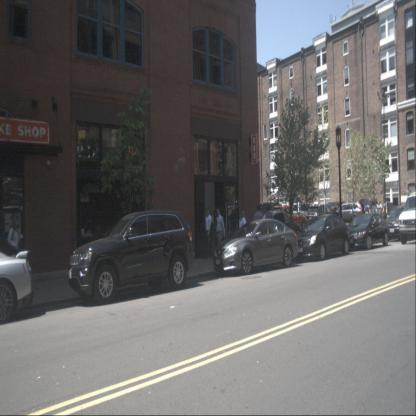human-pedestrian-adult: (7, 216, 22, 290), (214, 208, 226, 264), (227, 204, 239, 257), (252, 205, 264, 256), (207, 211, 217, 264), (238, 210, 247, 258), (206, 207, 213, 260), (266, 207, 274, 251), (377, 201, 383, 226)
vehicle-car: (69, 211, 193, 304), (213, 218, 299, 274), (292, 215, 350, 260), (0, 251, 34, 324), (345, 214, 389, 249), (384, 205, 415, 242), (260, 212, 302, 238), (270, 204, 308, 232), (305, 203, 339, 230), (333, 202, 365, 224), (354, 199, 379, 219), (326, 202, 346, 220), (364, 201, 378, 215)
vehicle-truck: (399, 192, 415, 245), (260, 201, 282, 220)
